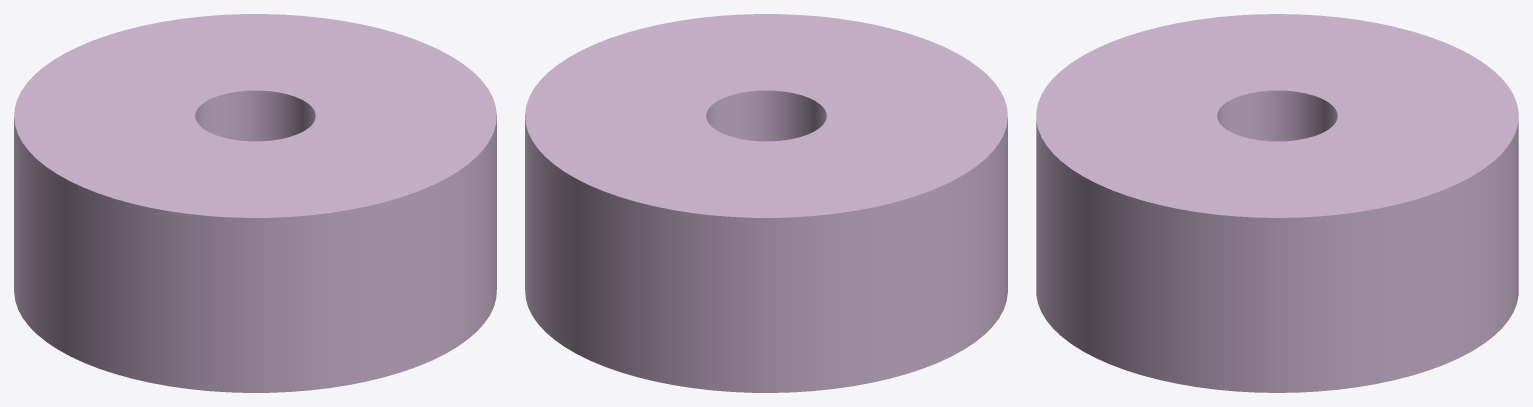
Rendered from Disk7.dae.
The picture shows the model from 3 angles, left to right: view 1: azimuth 30°, elevation 25°; view 2: azimuth 150°, elevation 25°; view 3: azimuth 270°, elevation 25°; orthographic projection.
Parts seen in each view (by area): view 1: ID2; view 2: ID2; view 3: ID2.
Boxes of the visible parts, box(x1,y1,x2,y2) form: ID2: box(14, 14, 496, 392); ID2: box(525, 14, 1007, 392); ID2: box(1036, 14, 1518, 392).
Size of the model in its own units: 0.02 by 0.02 by 0.008.
